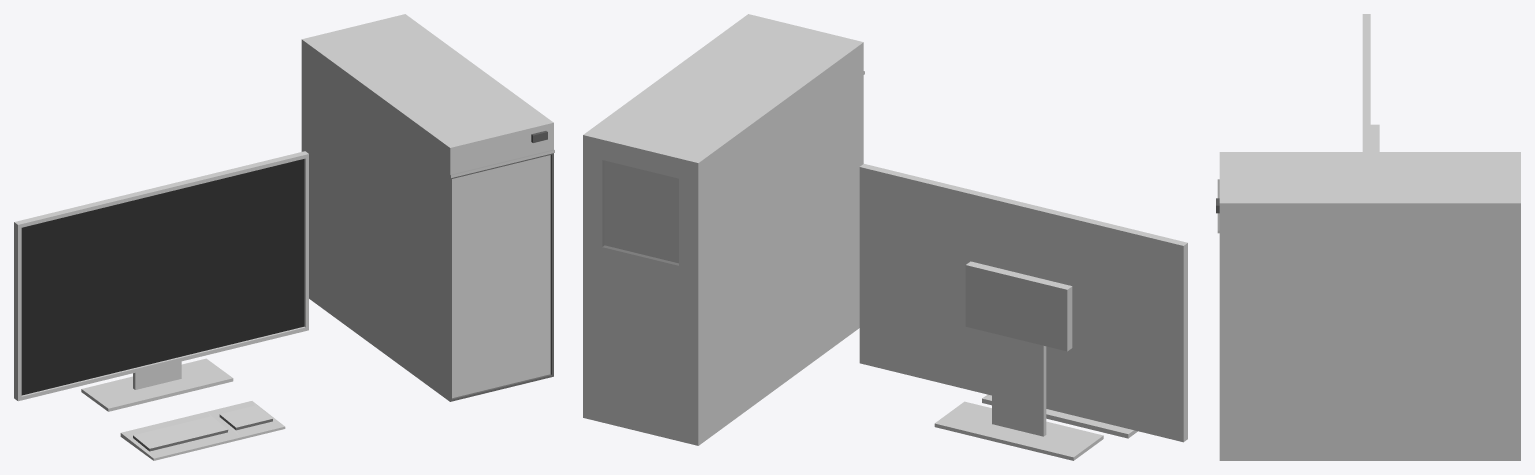
Rendered from computer_01.glb.
3 renders of one model, left to right at view 1: azimuth 30°, elevation 25°; view 2: azimuth 150°, elevation 25°; view 3: azimuth 270°, elevation 25°, orthographic. The views are drawn at different scales.
Parts seen in each view (by area): view 1: Cube; view 2: Cube; view 3: Cube.
Boxes of the visible parts, x1,y1,x2,y2 form: Cube: (14, 14, 554, 460); Cube: (583, 14, 1187, 460); Cube: (1216, 14, 1520, 460).
Bounding box in the file's own units: 0.9518 × 0.4965 × 0.5323.
Materials: 1 (1 with a texture image).
